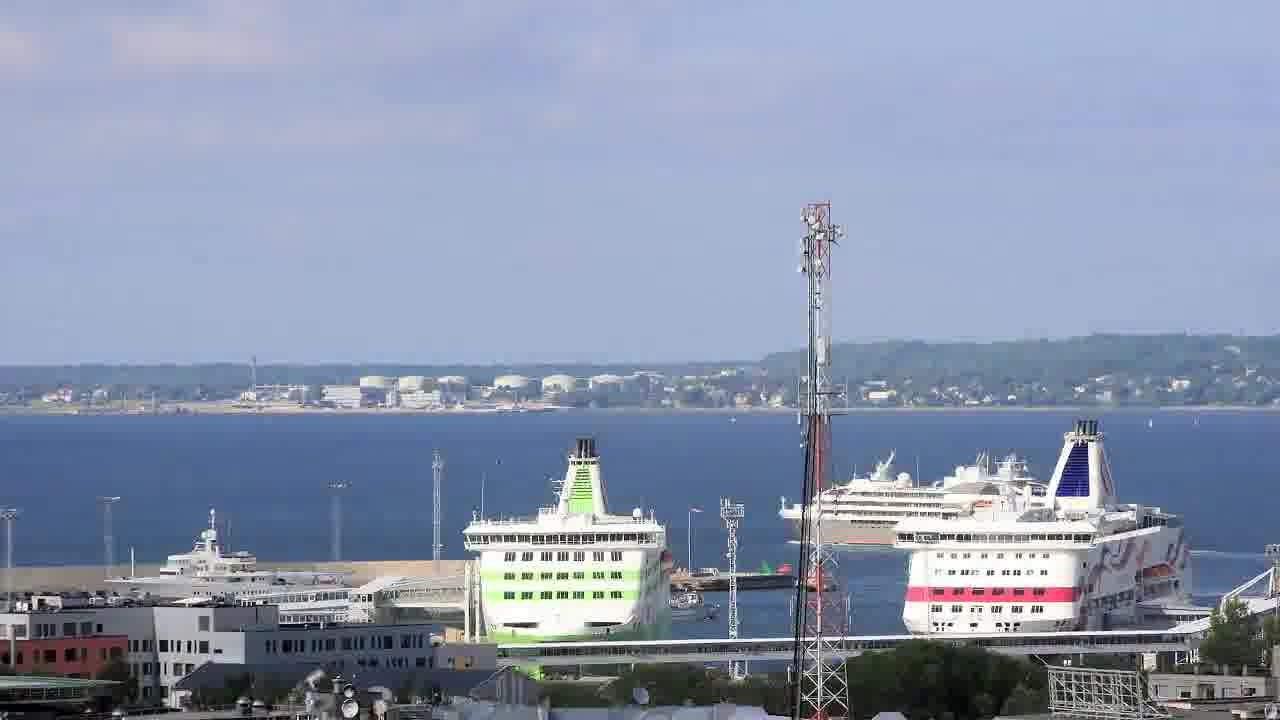type-3: (868, 415, 1225, 638), (436, 434, 694, 670), (85, 502, 357, 616), (780, 451, 998, 571)
